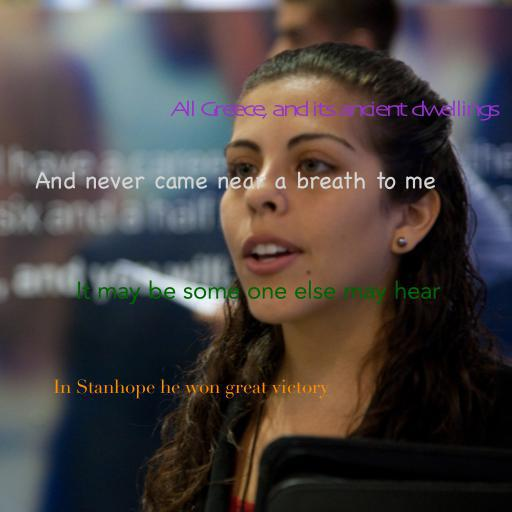Avenir: (76, 280, 440, 305)
Chalkboard: (34, 171, 436, 190)
Didot: (53, 379, 329, 399)
Skia: (171, 100, 497, 121)
